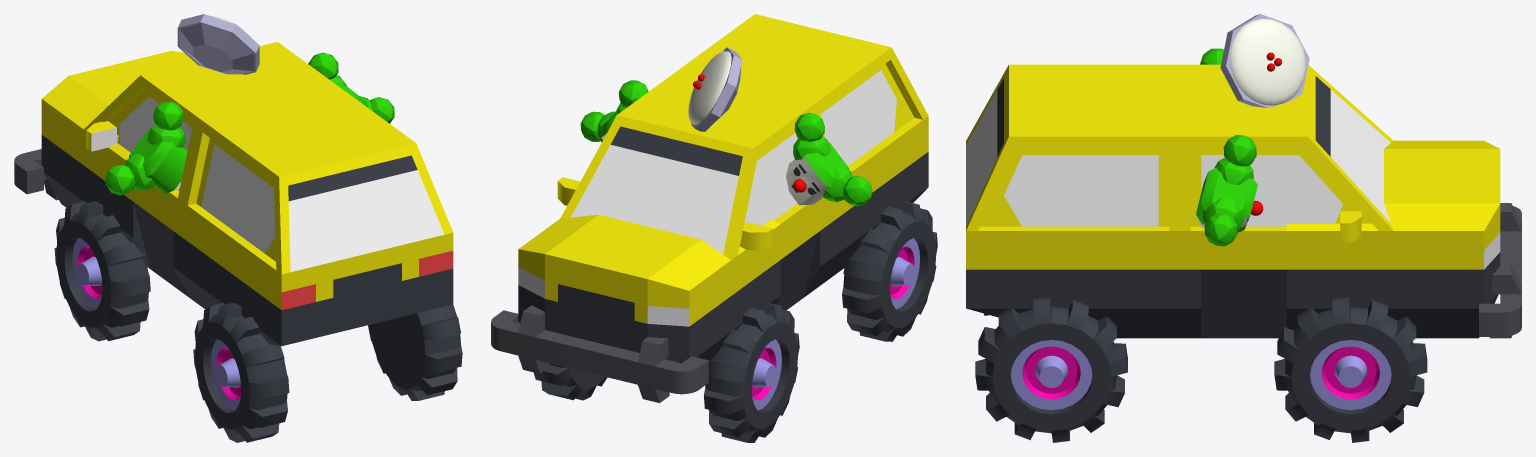
File: clown_car.glb
3 views of the same model, side by side, from view 1: azimuth 30°, elevation 25°; view 2: azimuth 150°, elevation 25°; view 3: azimuth 270°, elevation 25° (orthographic). The views are drawn at different scales.
Visible parts, largest first — view 1: mergedBlocks(Clone); view 2: mergedBlocks(Clone); view 3: mergedBlocks(Clone).
Boxes of the visible parts, bbox=[...] form: mergedBlocks(Clone): bbox=[14, 14, 462, 442]; mergedBlocks(Clone): bbox=[491, 14, 937, 442]; mergedBlocks(Clone): bbox=[966, 14, 1521, 442].
Bounding box in the file's own units: 1.67 × 1.87 × 2.6.
